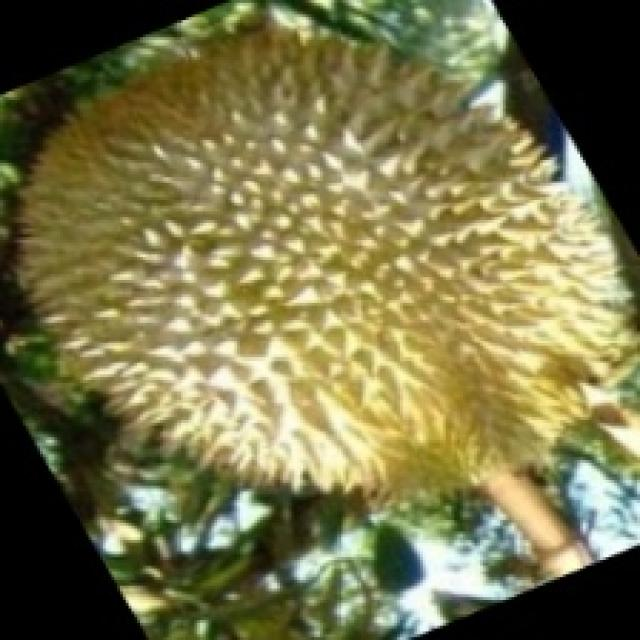d175: (31, 41, 614, 562)
